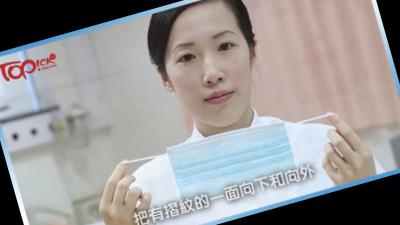without_mask: (158, 20, 268, 138)
